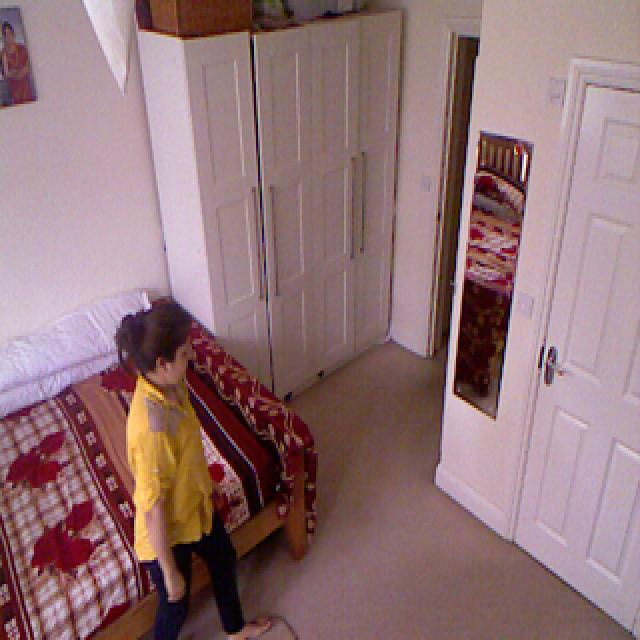standing: (110, 298, 272, 640)
